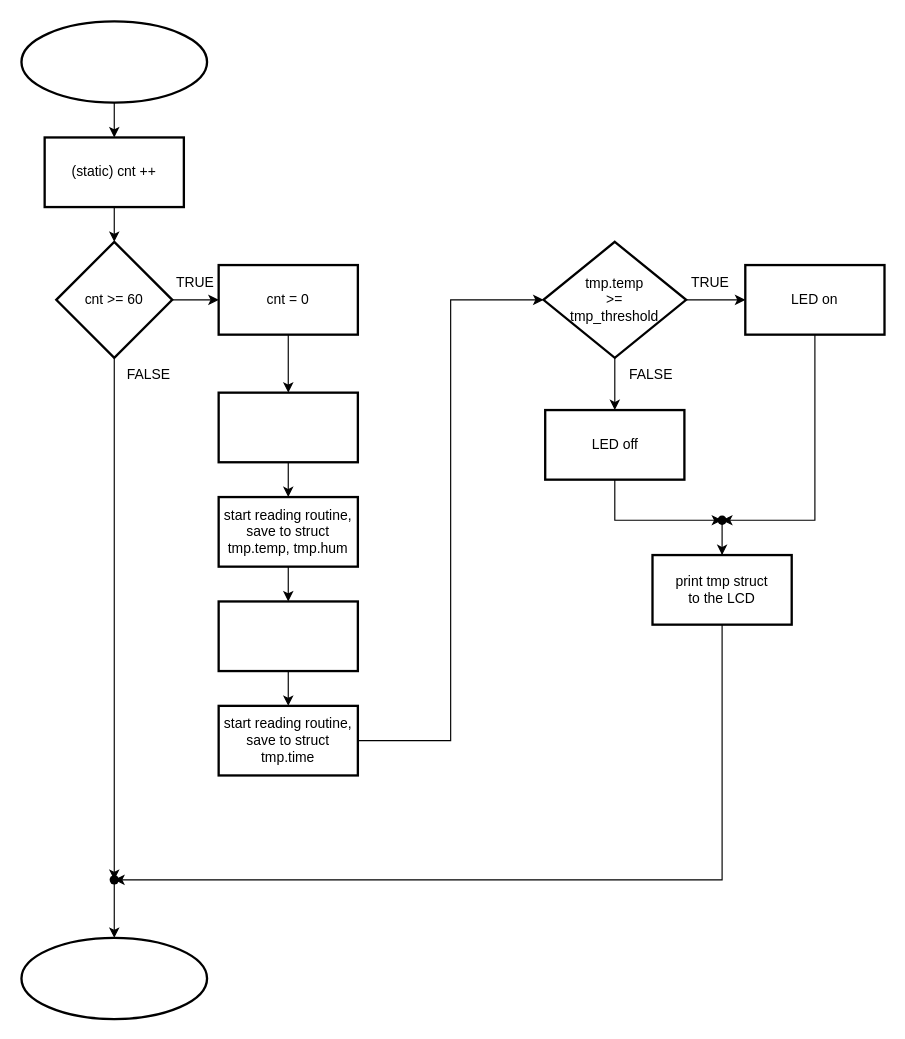
The diagram is 905 pixels wide and 1039 high, and some of its shapes have lost their labels. The box of each missing label's shape, as (x1, y1, x2, y2) in pixels:
return 0: (20, 936, 208, 1020)
set address of RTC module: (217, 600, 358, 672)
set address of temp&humidity sensor: (217, 391, 358, 463)
TIMER1_OVF_vect: (20, 20, 208, 103)
